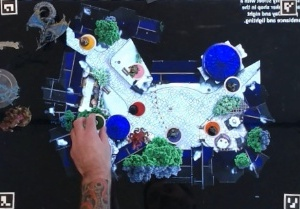blue: (220, 74, 245, 97)
green: (85, 112, 108, 133)
orange: (203, 120, 222, 136)
pink: (127, 62, 146, 80)
red: (129, 100, 147, 117)
violet: (167, 124, 184, 145)
yellow: (78, 32, 100, 54)
